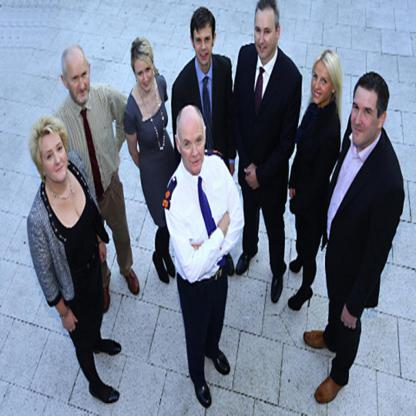face: (350, 88, 379, 146), (181, 115, 205, 174), (41, 133, 68, 182), (67, 53, 90, 103), (256, 12, 277, 59), (313, 62, 333, 104), (195, 27, 213, 65), (135, 59, 153, 93)
